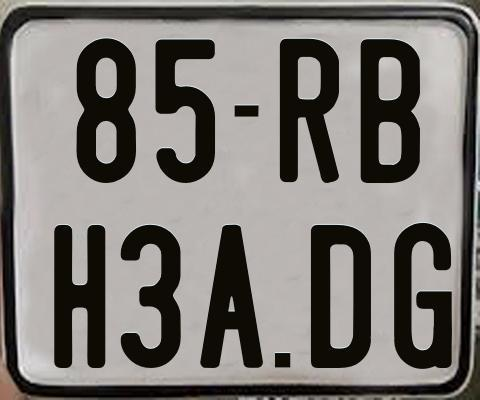3: (121, 223, 182, 367)
5: (154, 37, 220, 185)
8: (76, 35, 139, 180)
A: (198, 223, 266, 368)
B: (360, 37, 424, 186)
D: (309, 222, 374, 370)
G: (392, 220, 454, 370)
H: (51, 225, 105, 373)
R: (279, 38, 341, 186)
